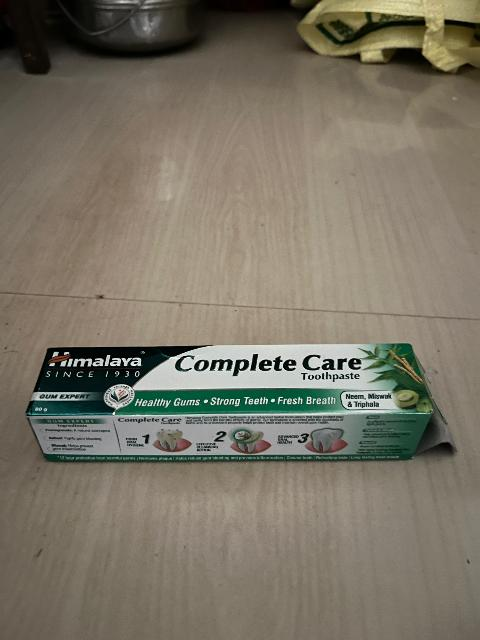himalaya toothpaste: (33, 346, 433, 458)
